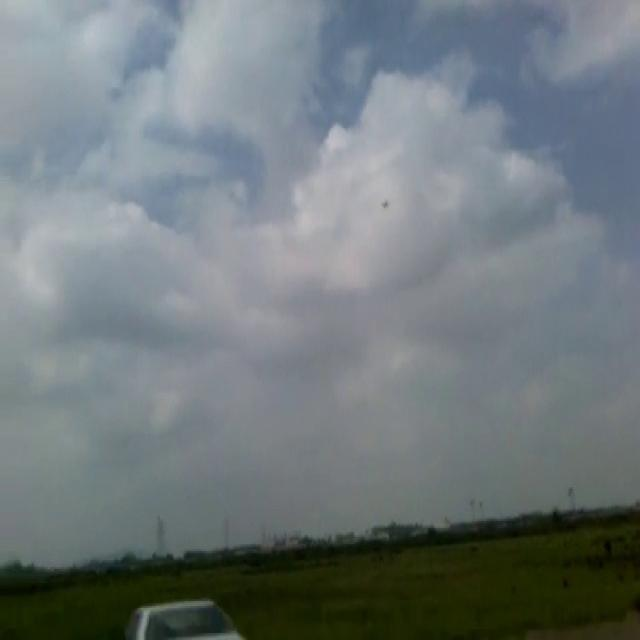drone: (378, 189, 391, 212)
